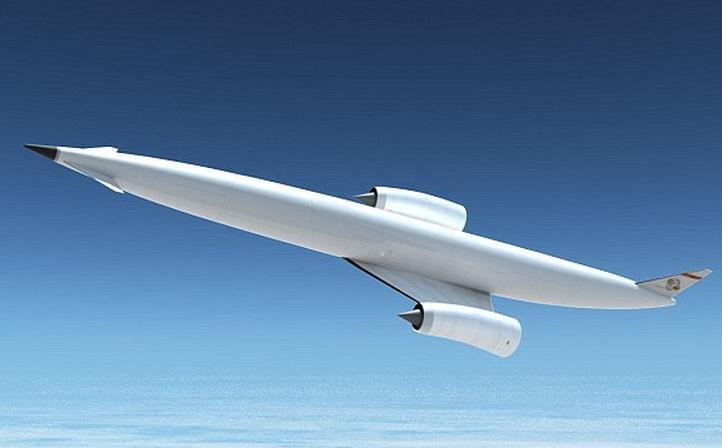airplane: (15, 128, 722, 358)
